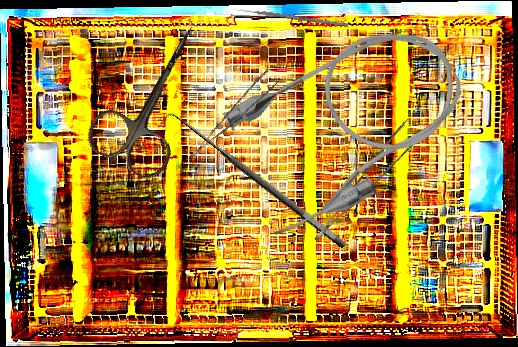Cannula: (209, 2, 488, 248)
Hook Surgical: (157, 105, 349, 263)
Iris Scissors: (79, 6, 232, 186)
Pusher: (232, 6, 349, 28)
Tissue Forceps: (296, 118, 428, 242), (175, 68, 284, 160)
